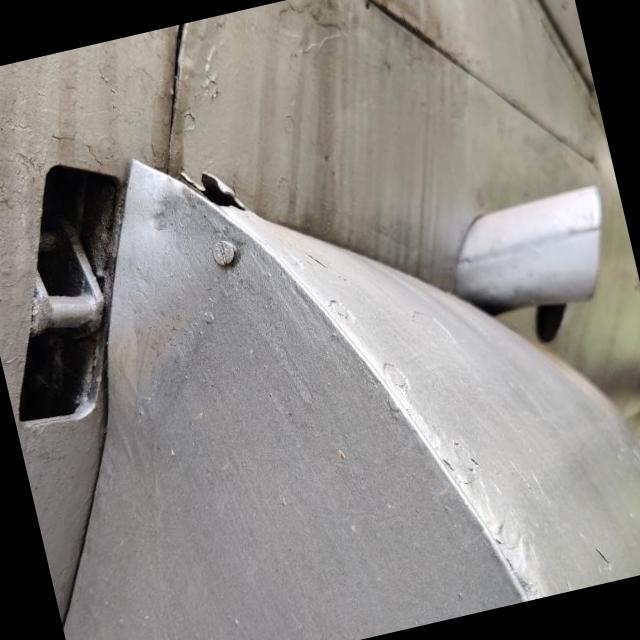Crack: (177, 170, 244, 209)
